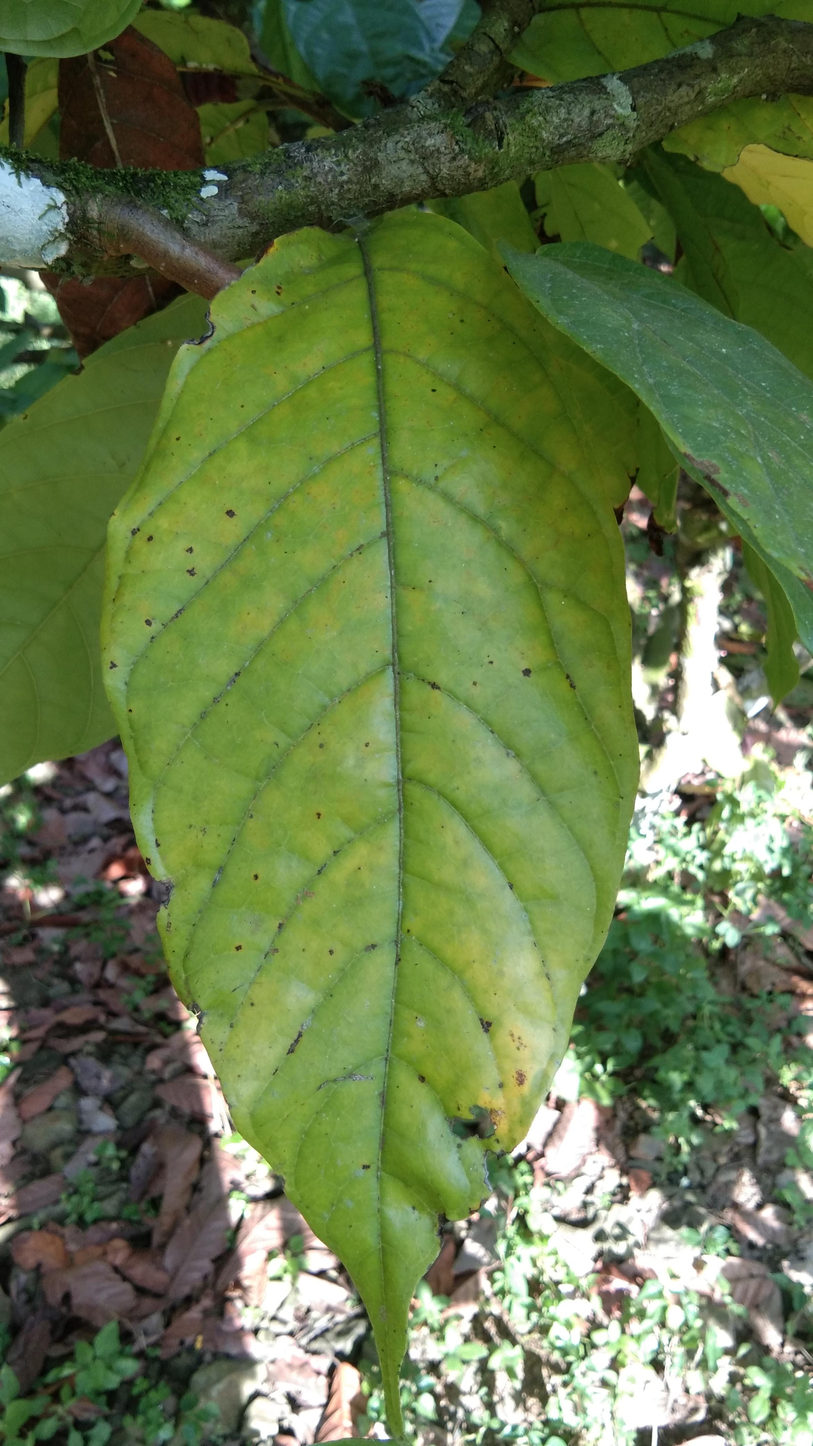deficiencia_potasio: (97, 226, 615, 1390)
